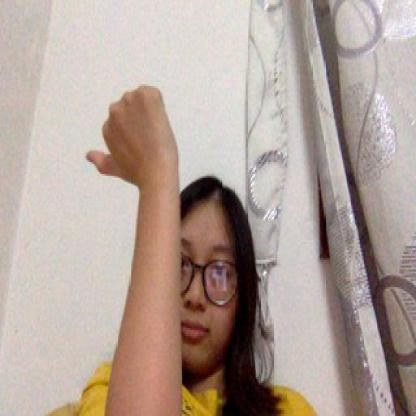right: (84, 84, 182, 191)
